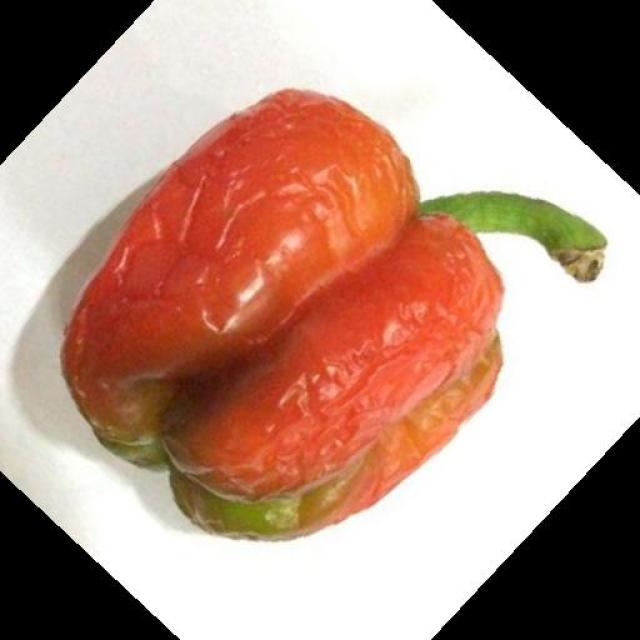Stale_Capsicum: (76, 106, 570, 523)
